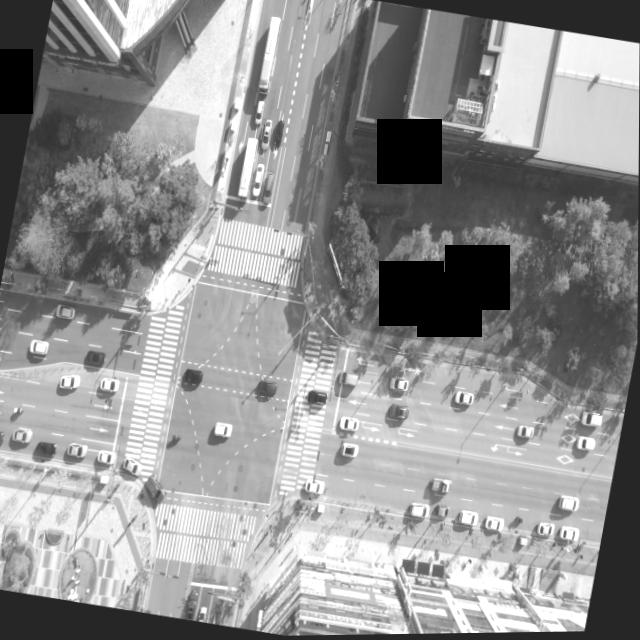car: (142, 474, 166, 500), (259, 171, 274, 208), (184, 587, 200, 621), (406, 499, 431, 520), (255, 376, 277, 398), (251, 162, 265, 195), (271, 118, 284, 152), (121, 455, 143, 475), (578, 410, 601, 429), (181, 365, 202, 384), (338, 367, 360, 385), (260, 118, 272, 150), (456, 508, 477, 526), (212, 420, 233, 438), (35, 438, 56, 456), (388, 401, 410, 418), (303, 478, 325, 495), (305, 387, 327, 404), (482, 515, 504, 532), (66, 440, 86, 458), (337, 415, 357, 433), (59, 371, 79, 389), (28, 336, 47, 354), (558, 494, 578, 511), (574, 434, 594, 451), (54, 302, 74, 319), (97, 375, 117, 392), (452, 389, 472, 406), (557, 525, 577, 542), (84, 348, 104, 365), (338, 441, 356, 459), (12, 426, 31, 443), (389, 374, 409, 390), (535, 520, 553, 537), (514, 422, 532, 438), (253, 98, 264, 124), (98, 449, 114, 464), (197, 602, 208, 623), (433, 504, 448, 518), (0, 426, 2, 442), (0, 351, 2, 367)
large_bus: (254, 18, 283, 96), (235, 134, 260, 200)
small_truck: (429, 475, 450, 492)
